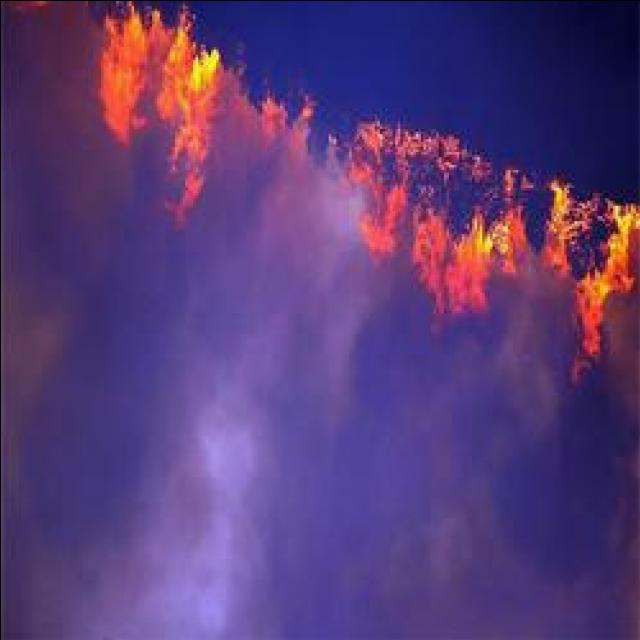fire: (97, 26, 148, 138), (166, 42, 220, 140), (604, 205, 640, 289), (449, 240, 494, 302), (582, 278, 610, 348)
smoke: (1, 335, 217, 637), (530, 366, 640, 634), (6, 34, 89, 320), (228, 468, 354, 630), (282, 264, 388, 454), (378, 462, 510, 600), (204, 174, 324, 290), (462, 342, 548, 434)
